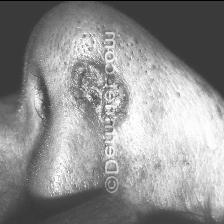Potentially Malignant Skin Tumors: (71, 62, 104, 114)
